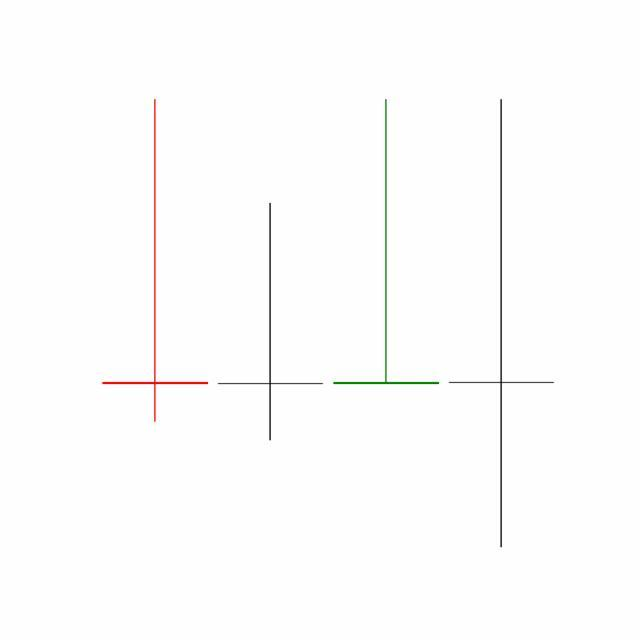Gravestone Doji: (329, 97, 445, 388)
